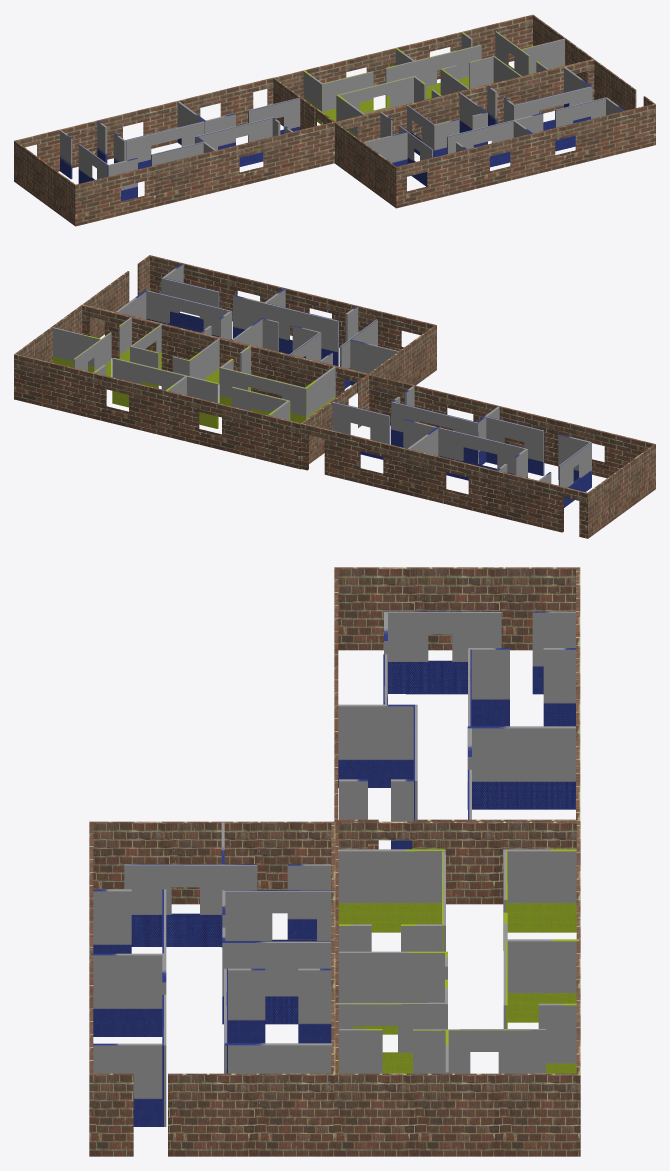
The model's file is Escenario.FBX.
The picture shows the model from 3 angles, top to bottom: view 1: azimuth 30°, elevation 25°; view 2: azimuth 150°, elevation 25°; view 3: azimuth 270°, elevation 25°; orthographic projection. The views are drawn at different scales.
Visible parts, largest first — view 1: Box031, Box027, Box029, Box008, Box019, Box009, Box003, Box021, Box007, Box004, Box002, Box020 (+23 smaller); view 2: Box031, Box029, Box027, Box003, Box009, Box019, Box021, Box023, Box004, Box020, Box008, Box002 (+21 smaller); view 3: Box027, Box029, Box031, Rectangle083, Rectangle074, Box006, Box022, Rectangle087, Rectangle062, Rectangle077, Rectangle071, Box011 (+19 smaller).
Part boxes in pixels (box(x1,y1,x2,y2)): Box031: box(14, 77, 335, 226); Box027: box(335, 59, 655, 208); Box029: box(274, 14, 593, 125); Box008: box(415, 45, 481, 99); Box019: box(125, 121, 204, 169); Box009: box(336, 76, 415, 121); Box003: box(447, 120, 513, 167); Box021: box(195, 117, 273, 166); Box007: box(321, 71, 373, 124); Box004: box(513, 86, 592, 130); Box002: box(555, 97, 607, 151); Box020: box(248, 97, 300, 142); Box031: box(301, 374, 655, 538); Box029: box(14, 305, 367, 469); Box027: box(82, 255, 436, 392); Box003: box(265, 303, 339, 366); Box009: box(219, 367, 307, 423); Box019: box(438, 427, 525, 480); Box021: box(391, 401, 478, 464); Box023: box(486, 416, 544, 475); Box004: box(146, 290, 231, 336); Box020: box(332, 401, 390, 459); Box008: box(112, 357, 185, 407); Box002: box(161, 278, 219, 330); Box027: box(89, 821, 335, 1156); Box029: box(334, 821, 580, 1156); Box031: box(334, 567, 580, 849); Rectangle083: box(467, 726, 575, 809); Rectangle074: box(338, 849, 445, 932); Box006: box(124, 864, 257, 947); Box022: box(387, 611, 501, 694); Rectangle087: box(338, 704, 414, 787); Rectangle062: box(91, 953, 163, 1036); Rectangle077: box(505, 849, 576, 932); Rectangle071: box(338, 951, 445, 1034); Box011: box(413, 1029, 545, 1073).
Size of the model in its own units: 39.99 by 3.03 by 16.38.
3 materials, 3 textured.
